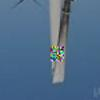faulty: (42, 6, 71, 87)
